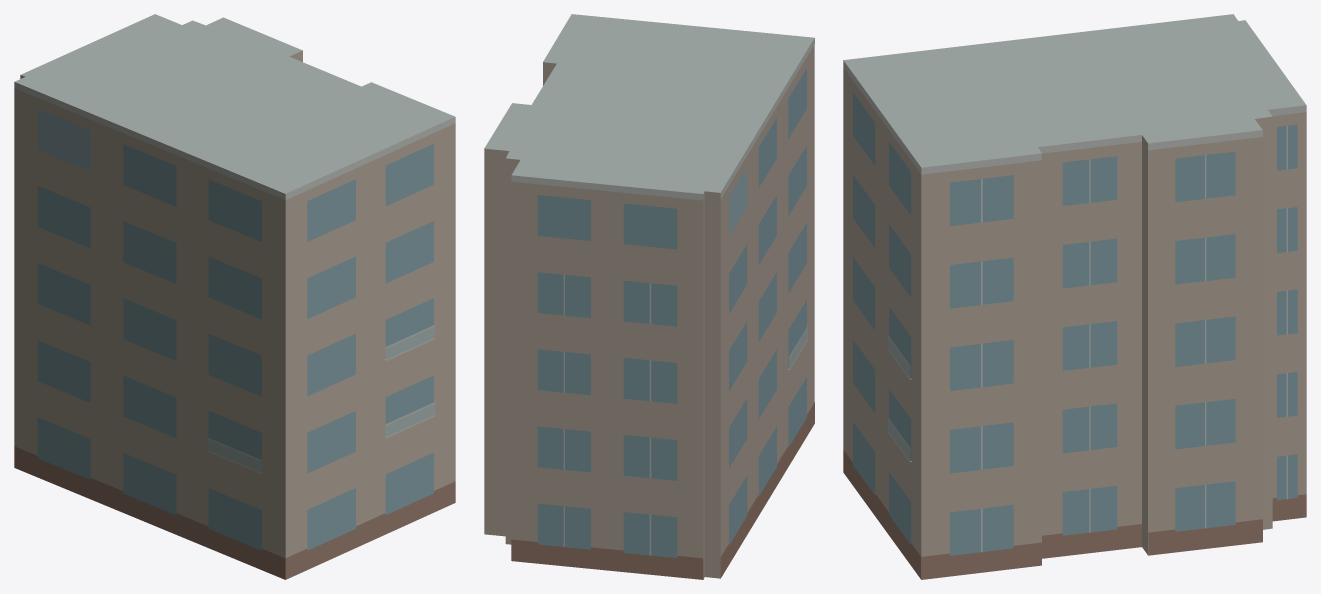
File: survey-upis-32917423.glb
The picture shows the model from 3 angles, left to right: view 1: azimuth 30°, elevation 25°; view 2: azimuth 150°, elevation 25°; view 3: azimuth 270°, elevation 25°; orthographic projection. The views are drawn at different scales.
Parts seen in each view (by area): view 1: survey-upis-32917423.tmp; view 2: survey-upis-32917423.tmp; view 3: survey-upis-32917423.tmp.
Part boxes in pixels (box(x1,y1,x2,y2)): survey-upis-32917423.tmp: box(14, 14, 455, 579); survey-upis-32917423.tmp: box(484, 14, 814, 579); survey-upis-32917423.tmp: box(843, 14, 1306, 579).
Bounding box in the file's own units: 11.78 × 14.7 × 14.99.
